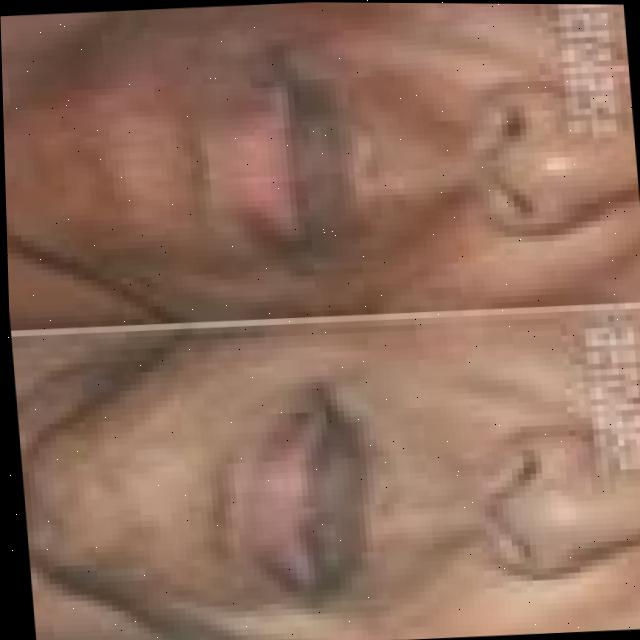Melasma: (19, 0, 490, 309)
